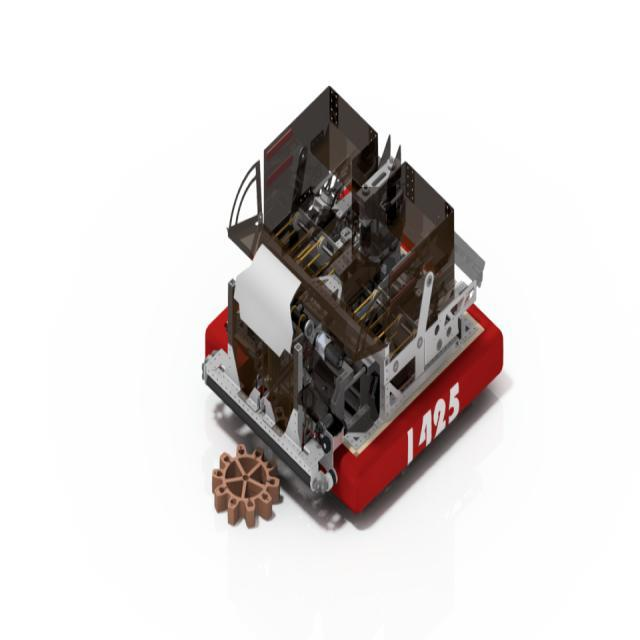robot: (178, 61, 516, 536)
